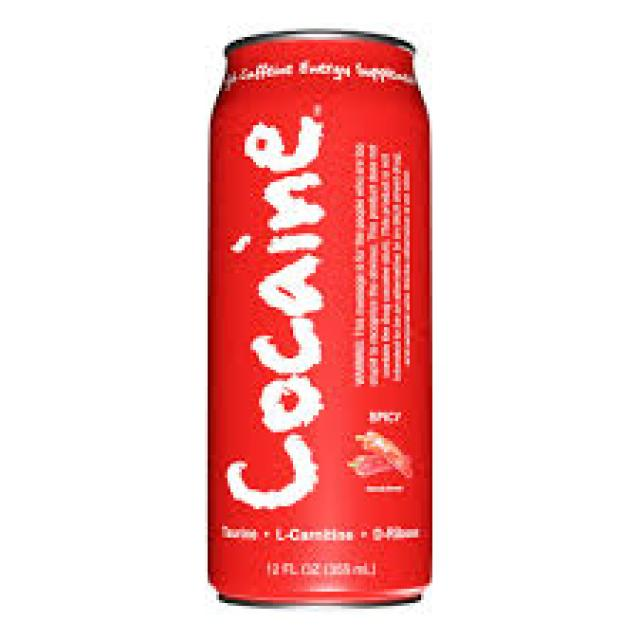Cans: (190, 26, 450, 614)
